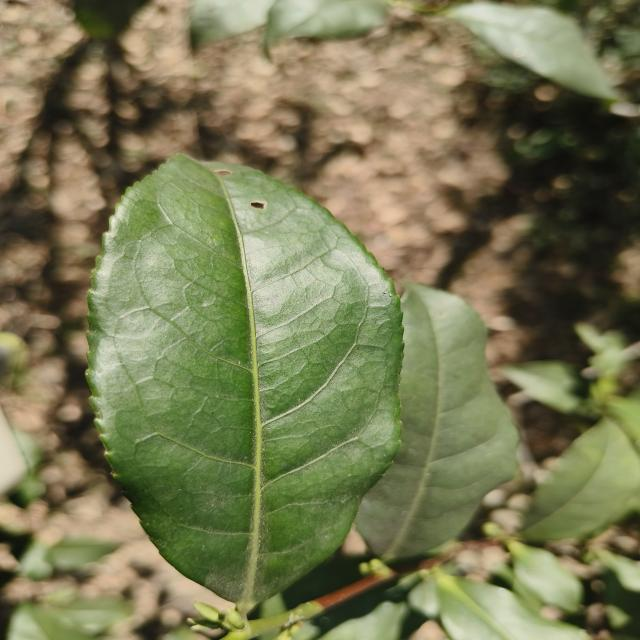Leaf: (88, 155, 403, 614), (356, 282, 518, 560), (446, 2, 616, 100), (520, 419, 640, 541), (435, 573, 588, 640), (265, 0, 387, 49), (508, 541, 583, 612), (502, 361, 582, 413), (46, 538, 119, 571)
